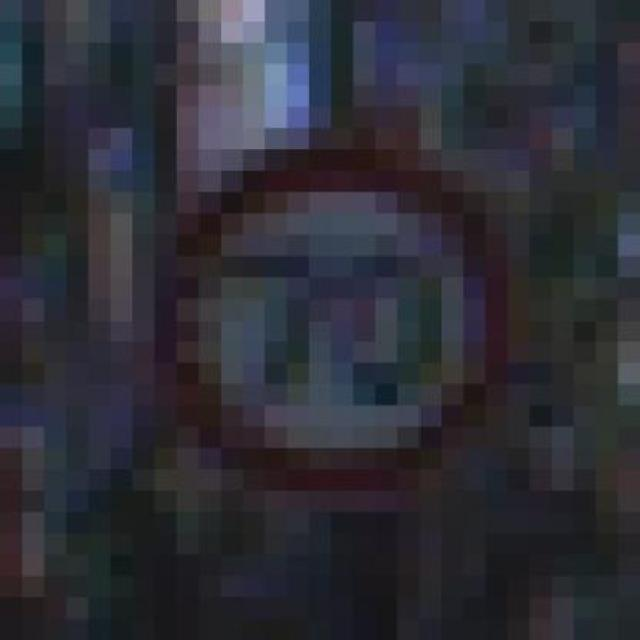forb_speed_over_70: (170, 155, 501, 488)
